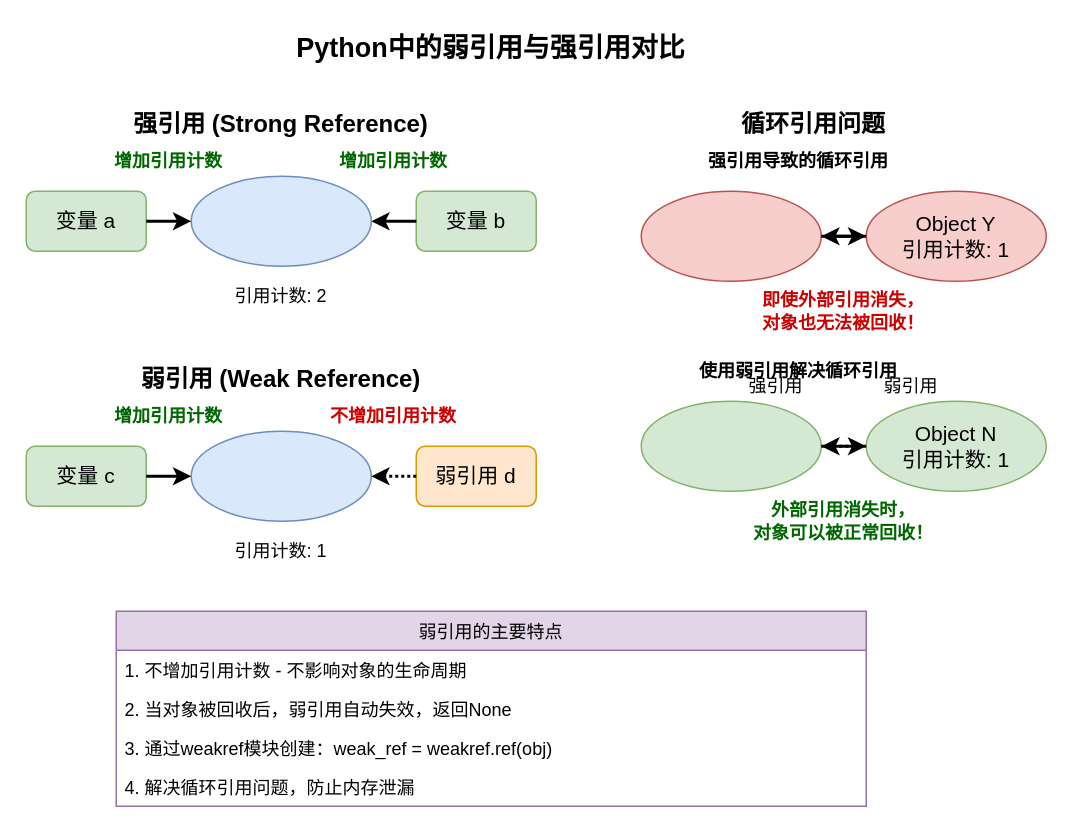
The diagram is 1073 pixels wide and 836 high, and some of its shapes have lost their labels. Each missing label, with the centre of its shape:
Object A: point (280, 220)
Object B: point (280, 475)
Object M 引用计数: 1: point (730, 445)
Object X 引用计数: 1: point (730, 235)
